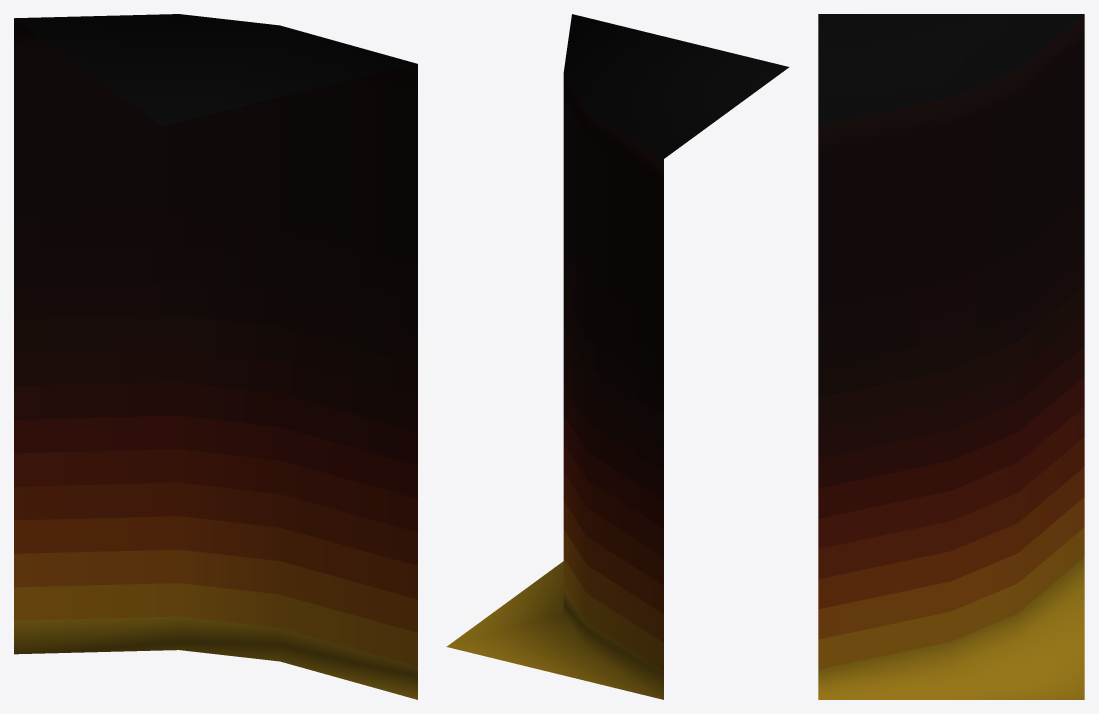
3 renders of one model, left to right at view 1: azimuth 30°, elevation 25°; view 2: azimuth 150°, elevation 25°; view 3: azimuth 270°, elevation 25°, orthographic. The views are drawn at different scales.
Parts seen in each view (by area): view 1: 13870; view 2: 13870; view 3: 13870.
Part boxes in pixels (bbox=[...]): 13870: bbox=[14, 14, 417, 699]; 13870: bbox=[446, 14, 789, 699]; 13870: bbox=[818, 14, 1084, 699].
Size of the model in its own units: 1.28 by 3.04 by 1.28.
